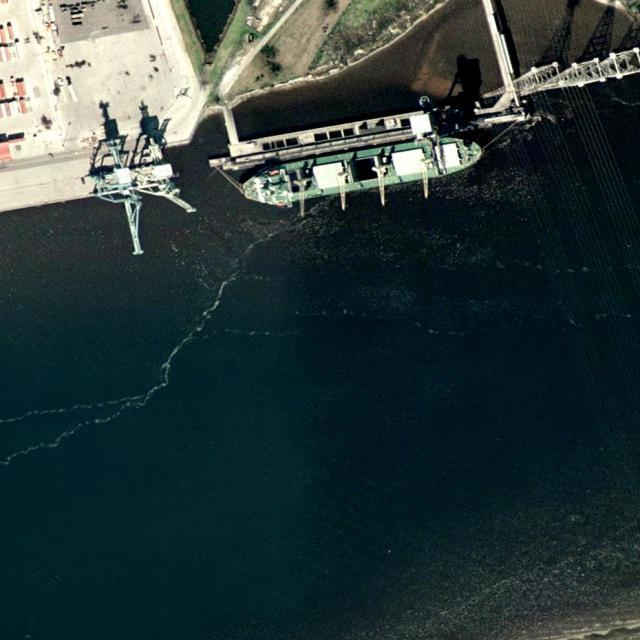Cargo: (237, 129, 487, 211)
Dock: (206, 92, 531, 176)
